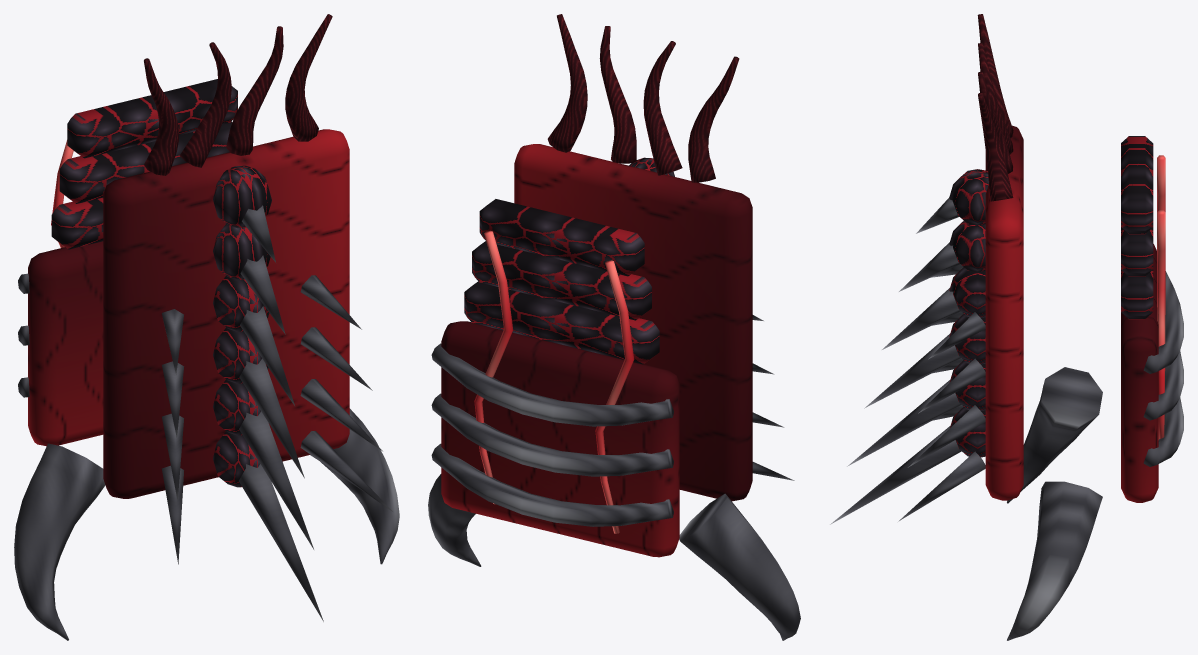
File: parasite_final_carapace.obj
3 renders of one model, left to right at view 1: azimuth 30°, elevation 25°; view 2: azimuth 150°, elevation 25°; view 3: azimuth 270°, elevation 25°, orthographic. The views are drawn at different scales.
Visible parts, largest first — view 1: final_carapace; view 2: final_carapace; view 3: final_carapace.
Part boxes in pixels (box(x1,y1,x2,y2)): final_carapace: box(14, 14, 399, 640); final_carapace: box(428, 14, 800, 640); final_carapace: box(830, 14, 1183, 640).
Bounding box in the file's own units: 0.896 × 1.32 × 0.8208.
